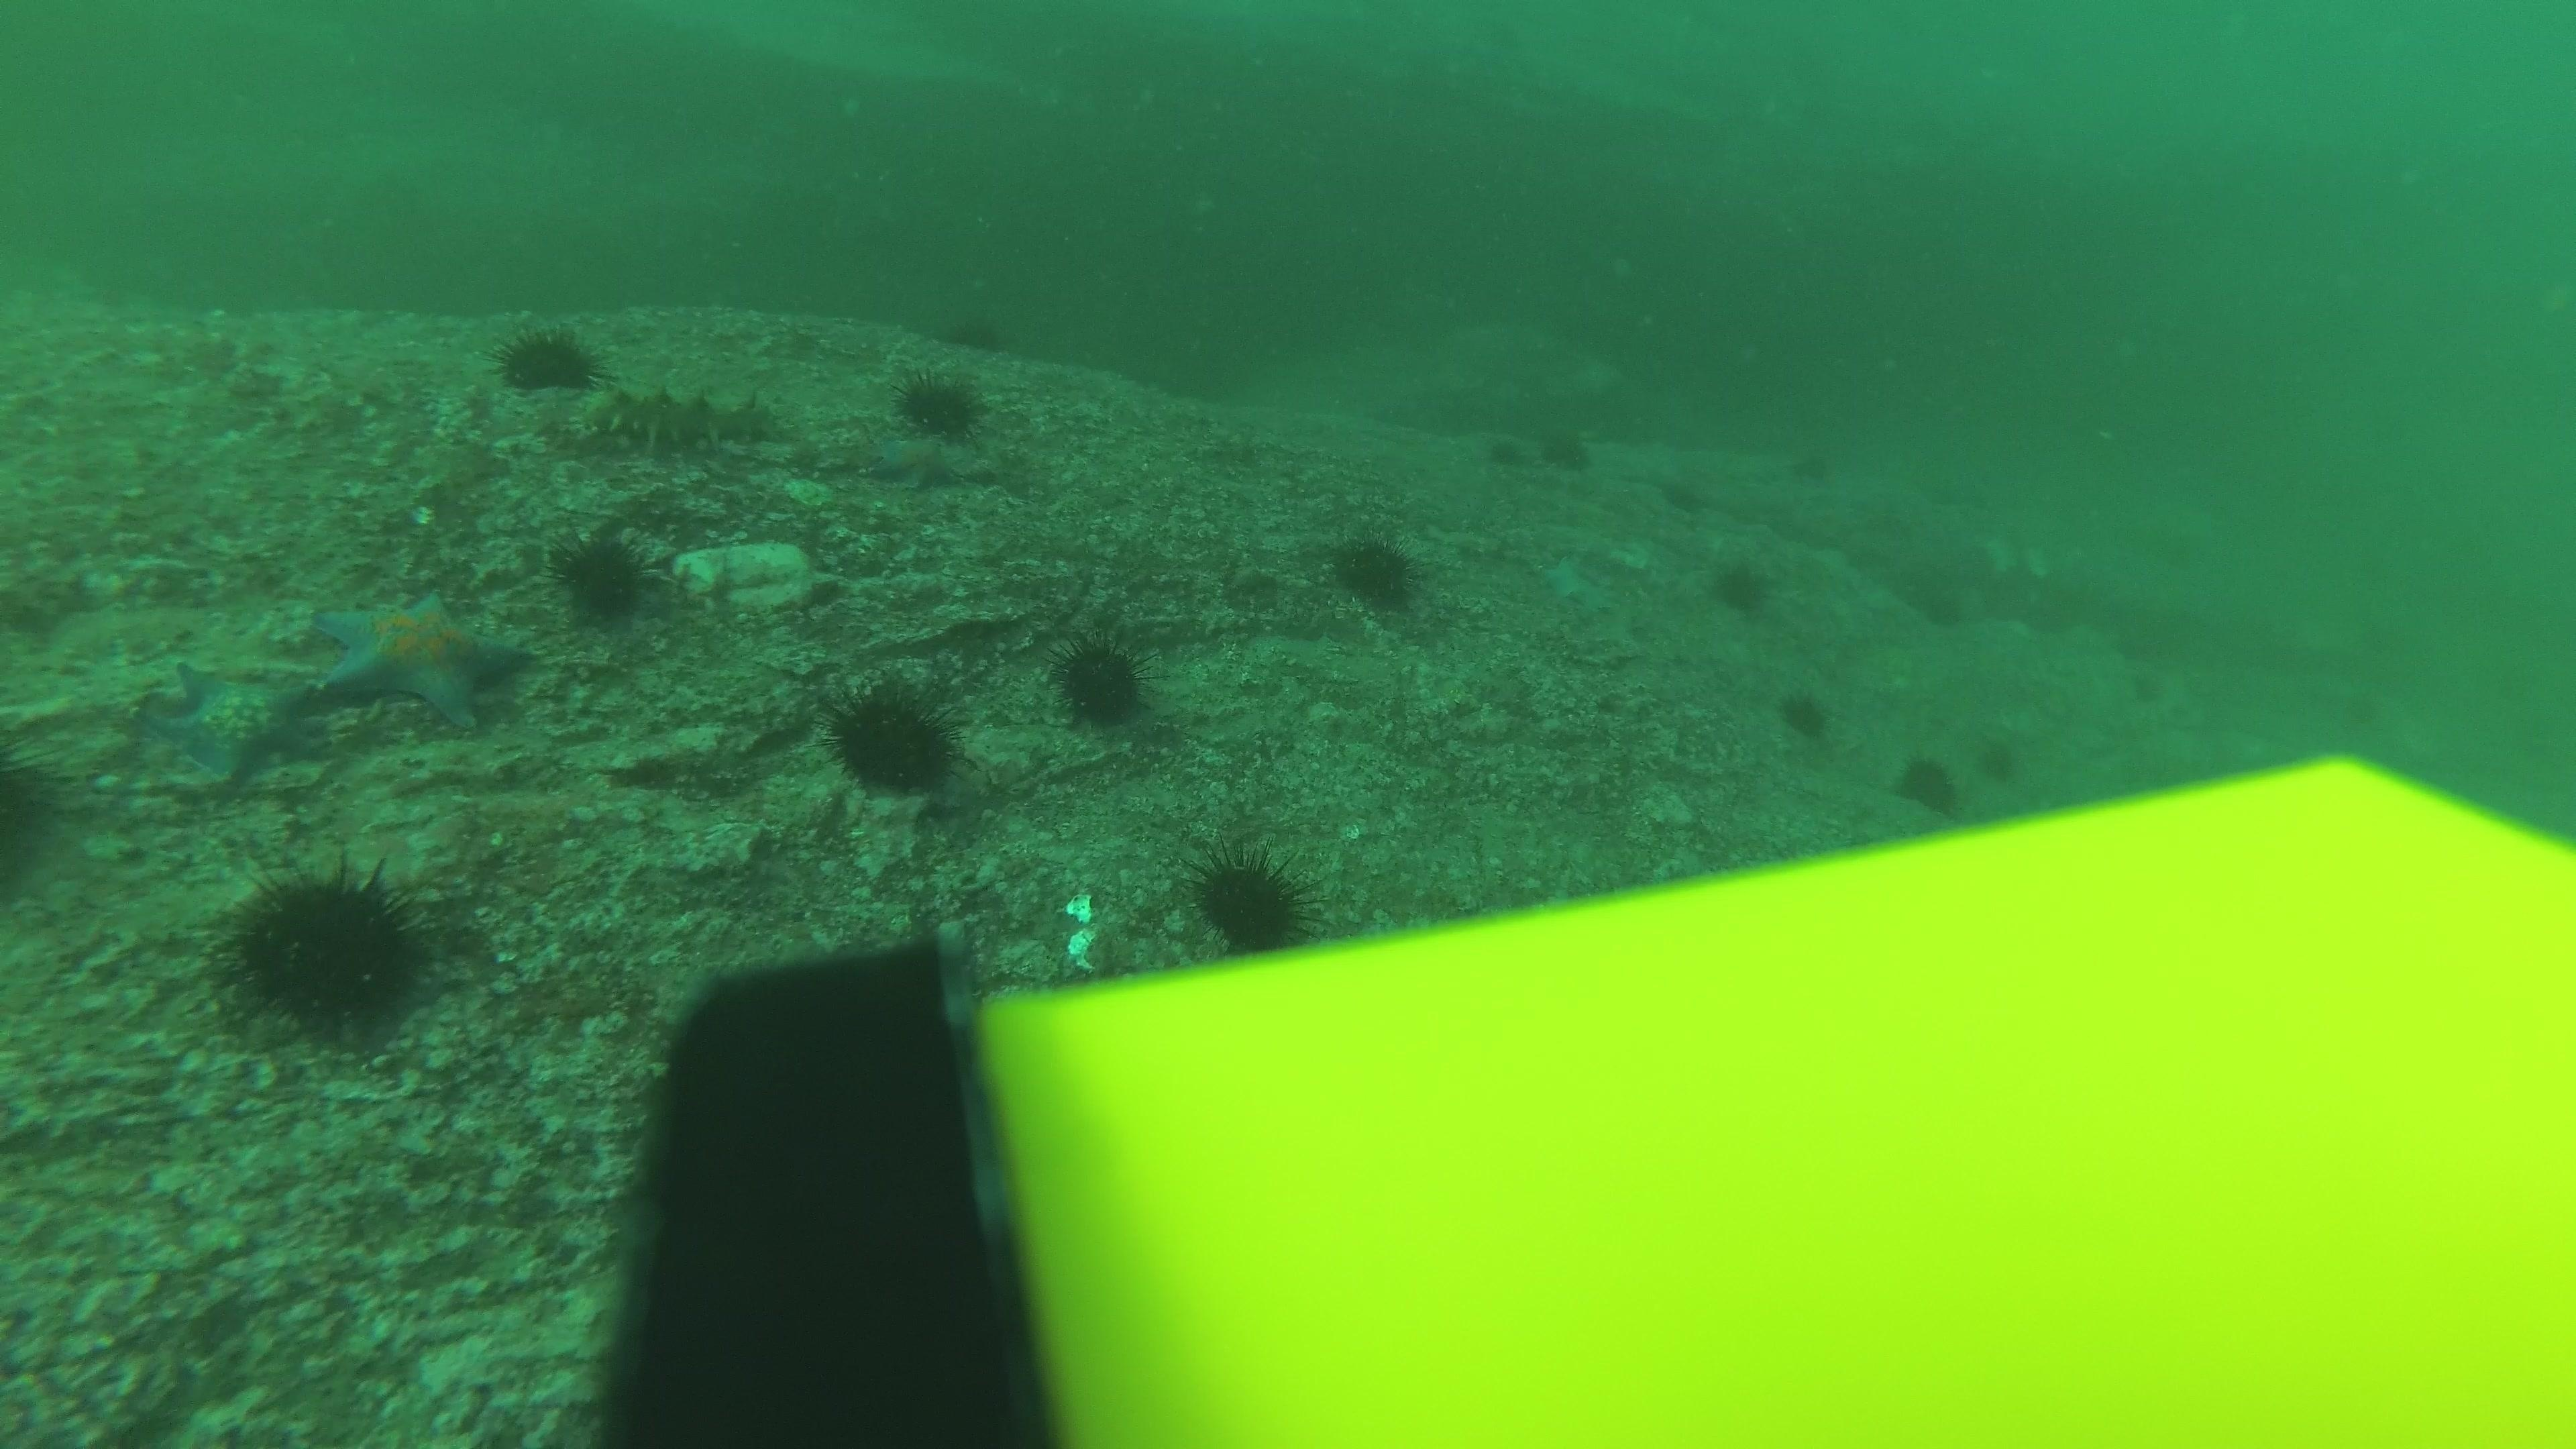echinus: (216, 855, 437, 1044), (824, 678, 962, 798), (1191, 846, 1316, 955), (0, 743, 71, 901), (550, 525, 660, 626), (1049, 632, 1154, 731), (1327, 527, 1424, 612), (494, 320, 602, 395), (893, 364, 989, 442), (918, 283, 1014, 361), (1895, 748, 1966, 816), (1707, 552, 1775, 616), (1776, 685, 1833, 741), (1967, 724, 2024, 780), (2120, 663, 2176, 720), (1794, 439, 1851, 495), (1645, 467, 1702, 524), (1472, 418, 1529, 474), (1537, 419, 1596, 474), (1911, 594, 1967, 649)
holothurian: (575, 379, 780, 460)
starfish: (308, 582, 534, 731), (138, 656, 331, 787), (862, 432, 971, 494), (1537, 547, 1615, 614)
